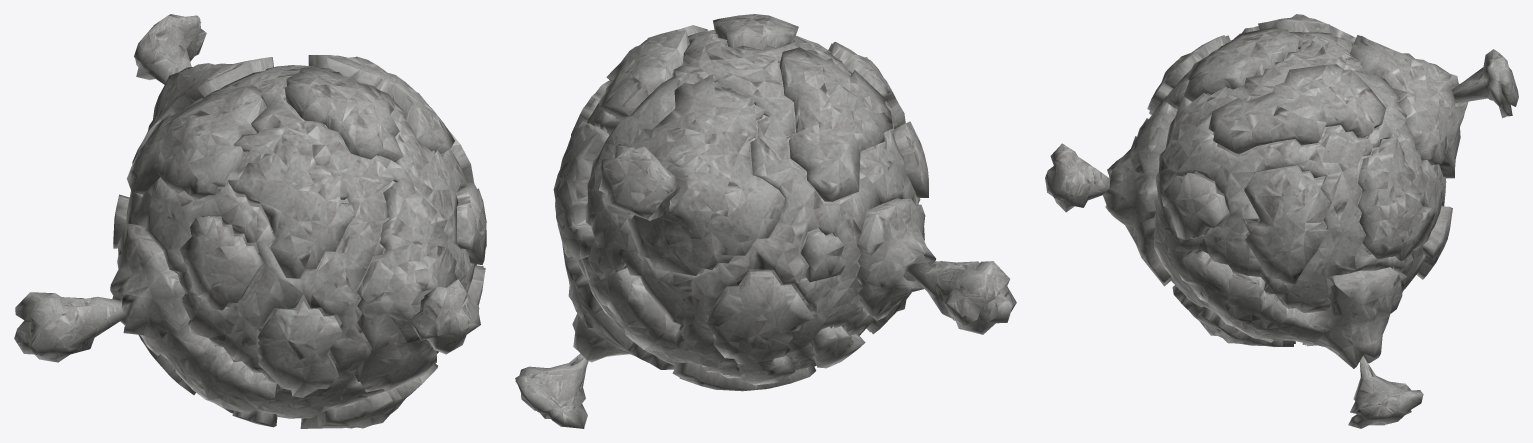
Rendered from Fire_Planet.fbx.
3 views of the same model, side by side, from view 1: azimuth 30°, elevation 25°; view 2: azimuth 150°, elevation 25°; view 3: azimuth 270°, elevation 25° (orthographic). The views are drawn at different scales.
Visible parts, largest first — view 1: rocks_optimized, path, smoke_low, lava; view 2: rocks_optimized, path, smoke_low, lava; view 3: rocks_optimized, path, smoke_low, lava.
Part boxes in pixels (box(x1,y1,x2,y2)): rocks_optimized: box(110, 55, 486, 428); path: box(126, 65, 475, 418); smoke_low: box(14, 14, 480, 362); lava: box(120, 98, 457, 388); rocks_optimized: box(553, 14, 935, 391); path: box(577, 29, 918, 378); smoke_low: box(515, 57, 1016, 428); lava: box(607, 43, 925, 358); rocks_optimized: box(1102, 14, 1468, 368); path: box(1153, 32, 1446, 314); smoke_low: box(1045, 49, 1518, 428); lava: box(1173, 49, 1458, 307).
Size of the model in its own units: 3859 by 3176 by 4025.
Materials: 3 (3 with a texture image).
